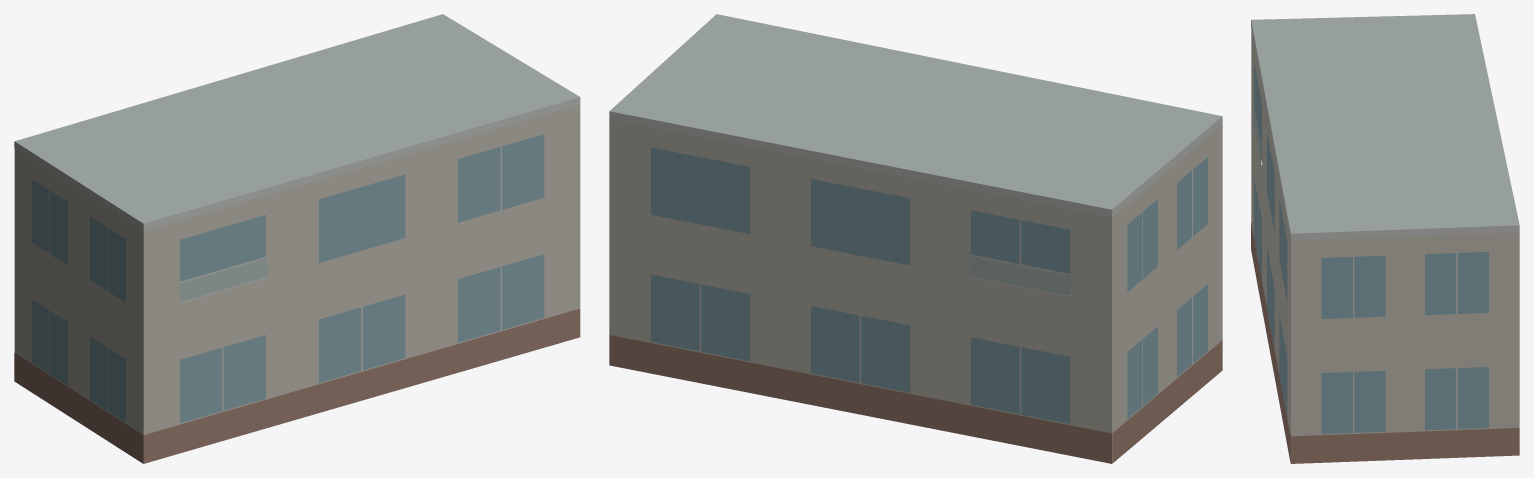
Rendered from survey-upis-32997228.glb.
3 views of the same model, side by side, from view 1: azimuth 30°, elevation 25°; view 2: azimuth 150°, elevation 25°; view 3: azimuth 270°, elevation 25° (orthographic). The views are drawn at different scales.
Visible parts, largest first — view 1: survey-upis-32997228.tmp; view 2: survey-upis-32997228.tmp; view 3: survey-upis-32997228.tmp.
Boxes of the visible parts, box(x1,y1,x2,y2) form: survey-upis-32997228.tmp: box(14, 14, 580, 463); survey-upis-32997228.tmp: box(609, 14, 1222, 463); survey-upis-32997228.tmp: box(1251, 14, 1519, 463).
Bounding box in the file's own units: 16.18 × 7.9 × 8.36.
